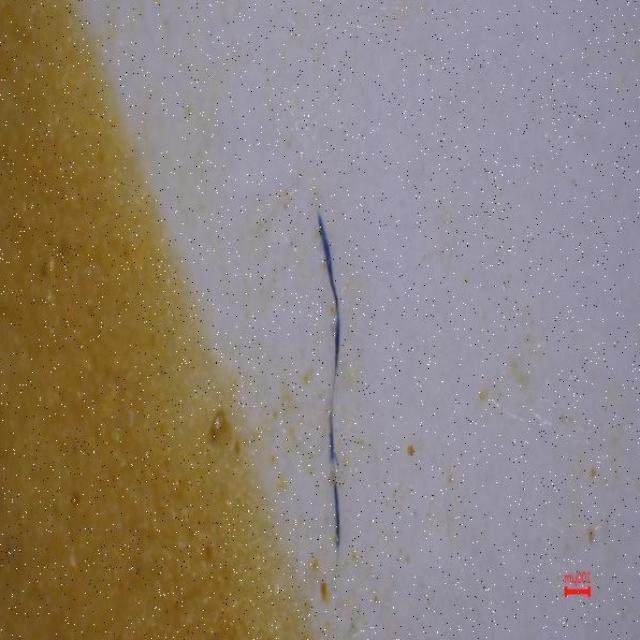Fibre: (306, 210, 352, 560)
